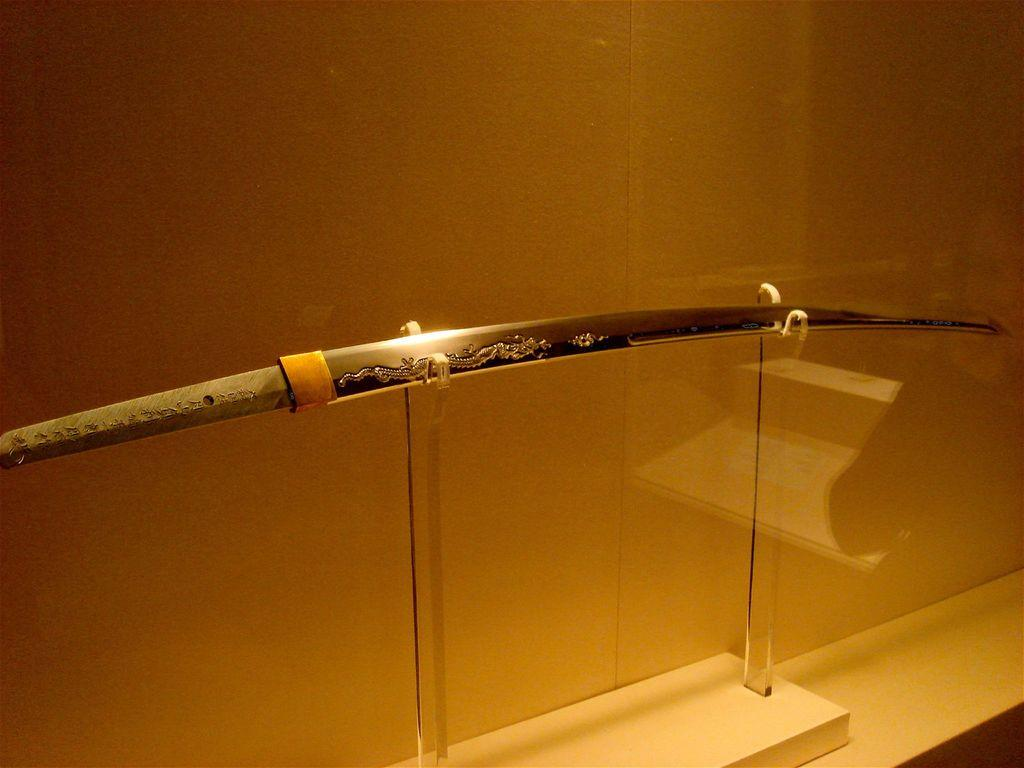knife: (27, 253, 851, 490)
